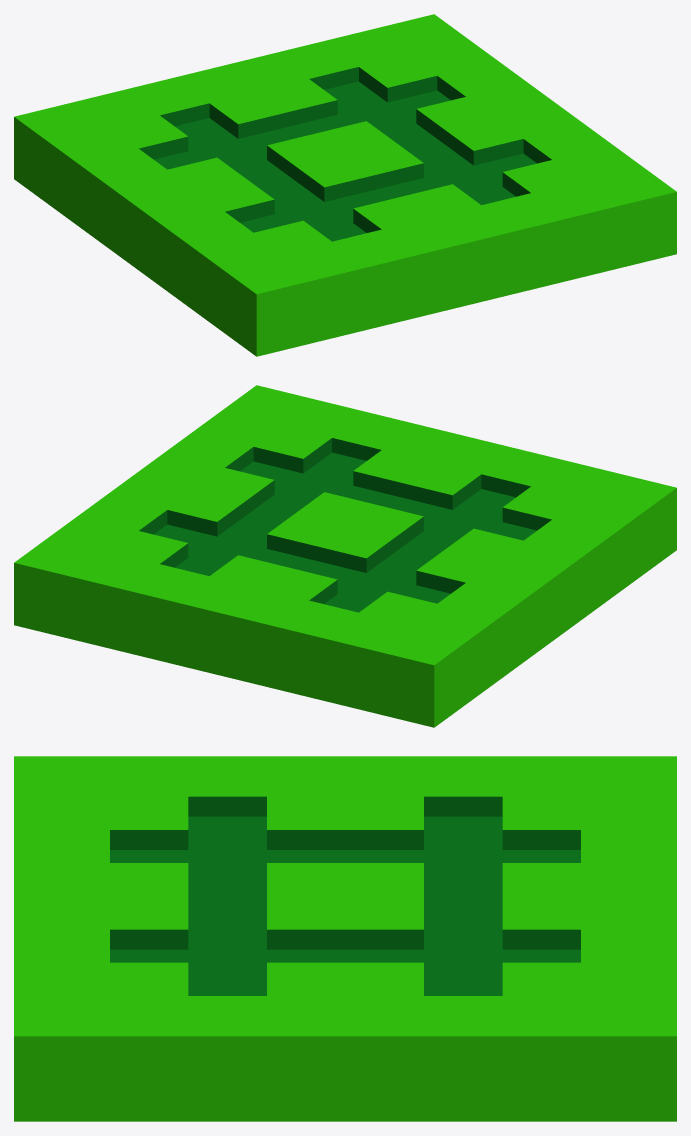
Rendered from hash_tile.fbx.
3 views of the same model, one above another, from view 1: azimuth 30°, elevation 25°; view 2: azimuth 150°, elevation 25°; view 3: azimuth 270°, elevation 25° (orthographic). The views are drawn at different scales.
Parts seen in each view (by area): view 1: Cube; view 2: Cube; view 3: Cube.
Boxes of the visible parts, left/top/right/bottom form: Cube: left=14, top=14, right=676, bottom=356; Cube: left=14, top=385, right=676, bottom=727; Cube: left=14, top=756, right=676, bottom=1121.
Size of the model in its own units: 10000 by 10000 by 1420.
